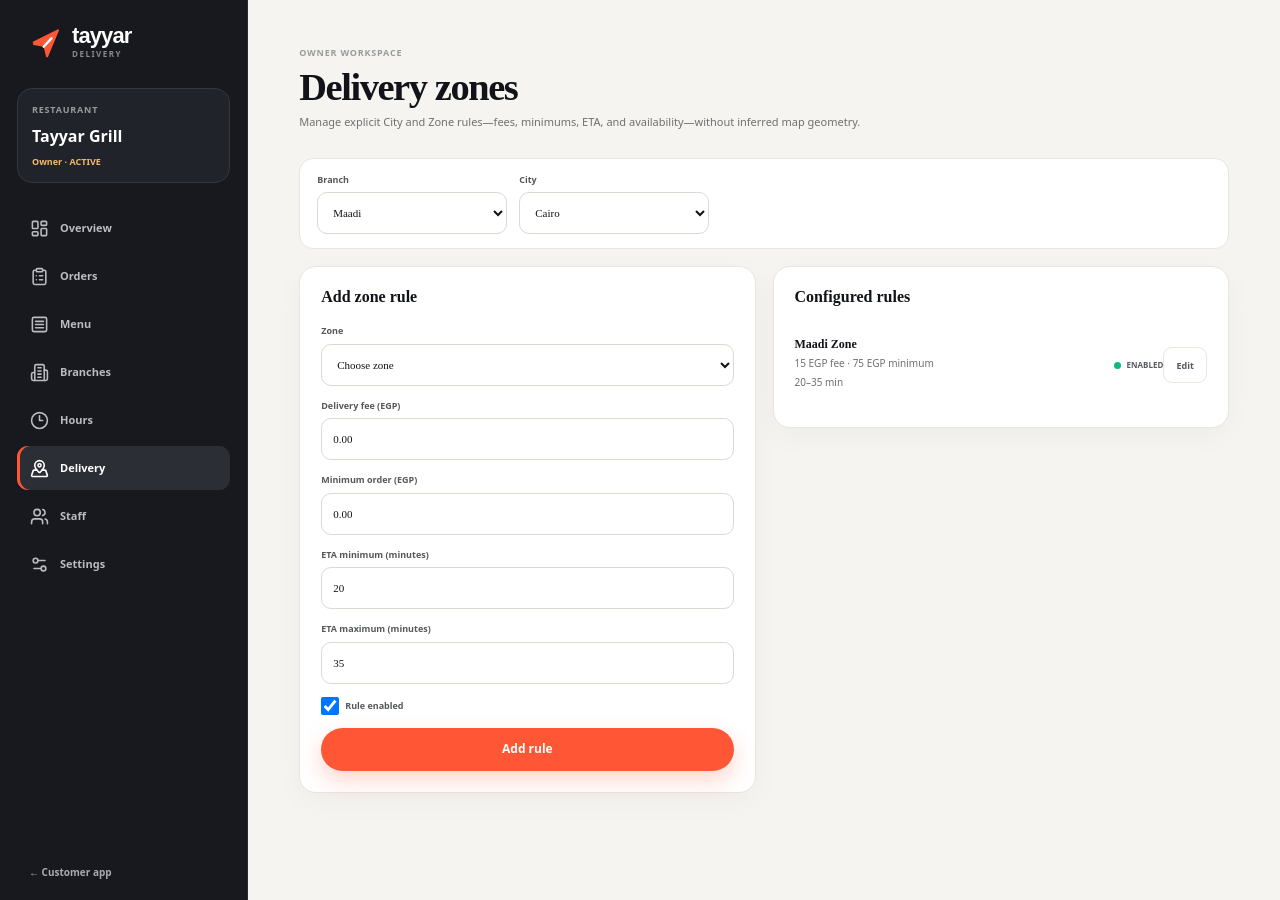
Test case: renders a real delivery Zone rule for editing
This screenshot has width=1280, height=900.
Expected: the text "15 EGP fee · 75 EGP minimum" is shown, x1=794 y1=356 x2=934 y2=372
Click the button "Edit".
click(1185, 365)  # box x1=1163 y1=347 x2=1207 y2=383
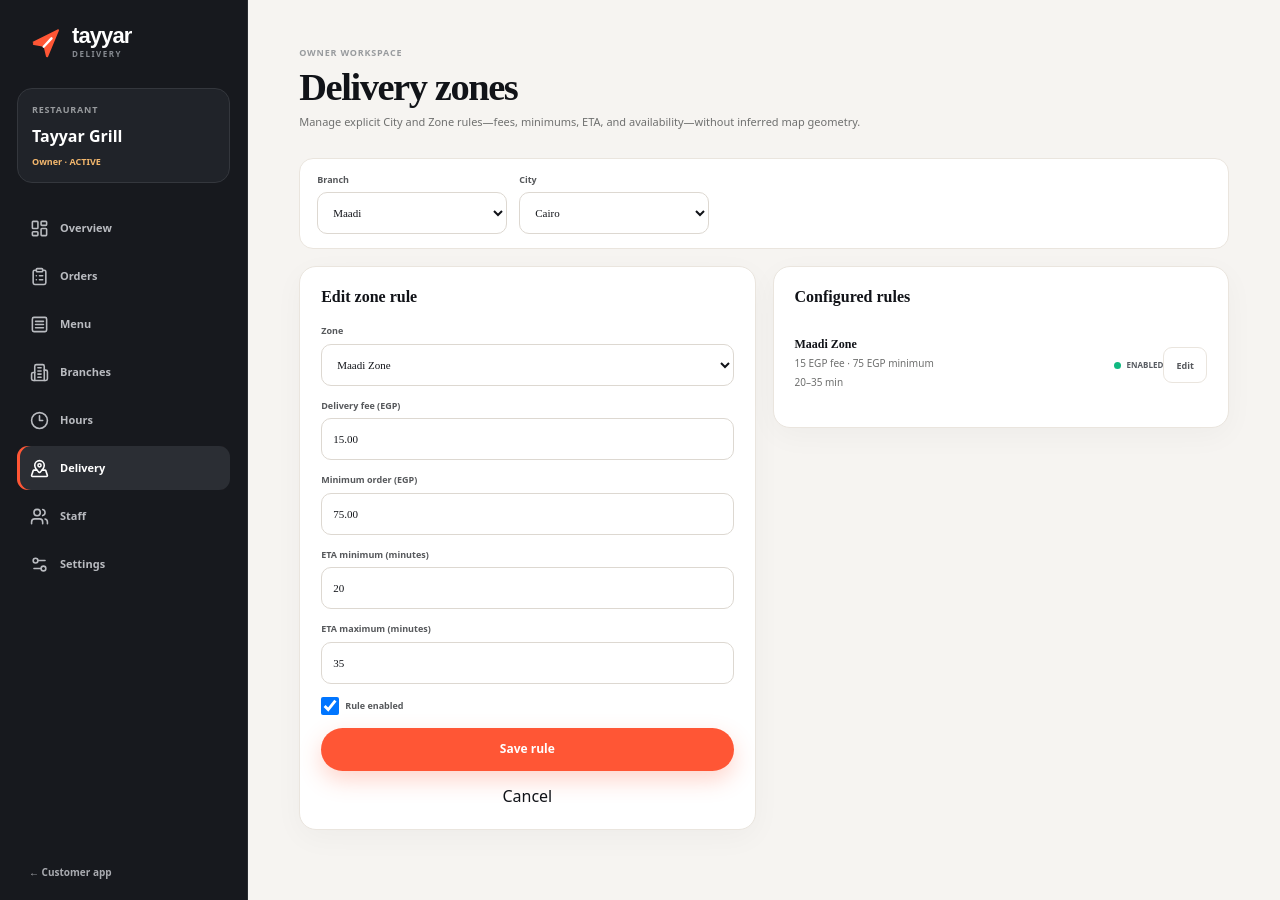
Expected: the heading "Edit zone rule" is shown, x1=321 y1=288 x2=417 y2=306
